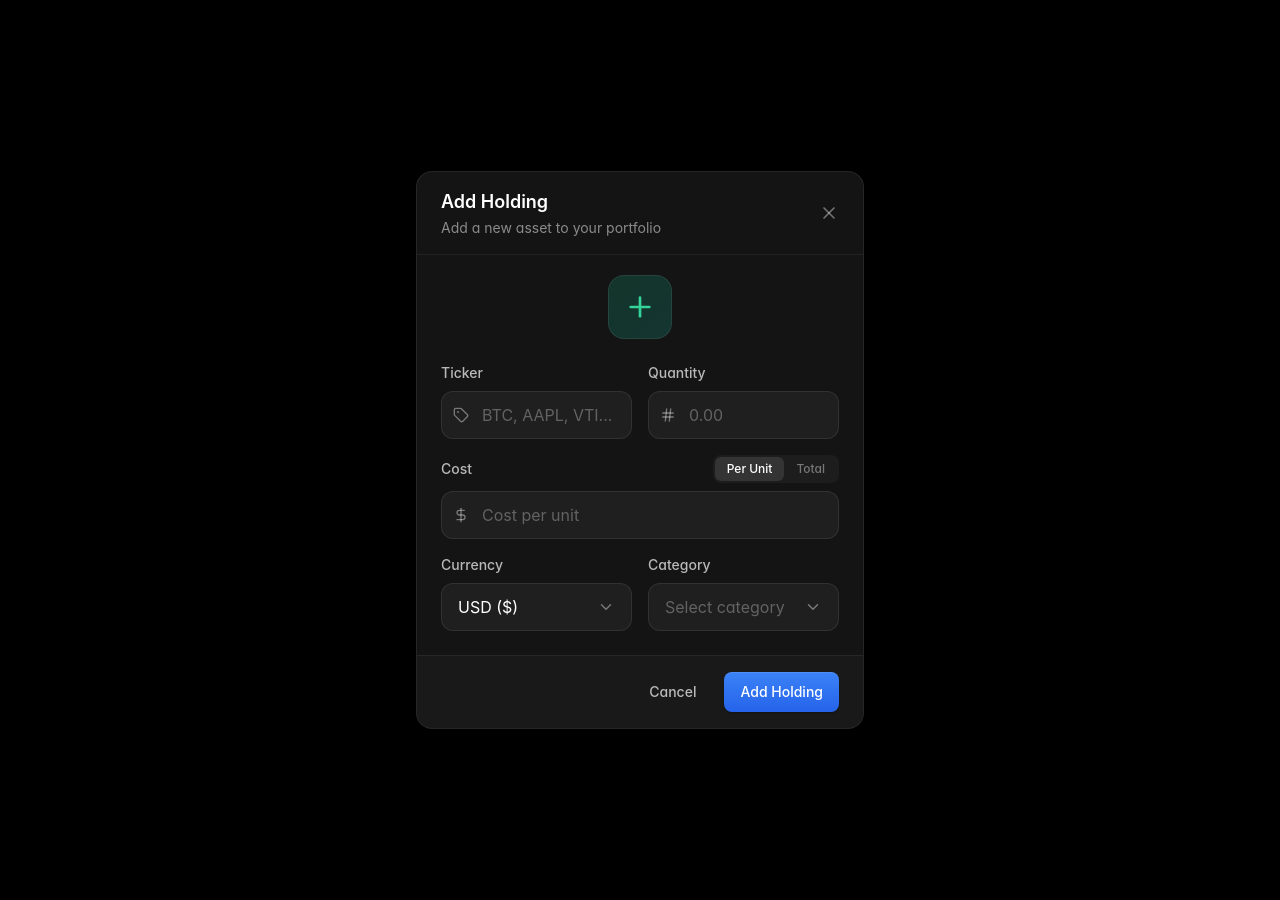
Test: Phase 4: Holdings Management UI › Cost Calculation › should calculate avg cost from total ÷ quantity
// Switch to Total cost mode
Click the button "Total" at (811, 469), box [784, 457, 837, 481]
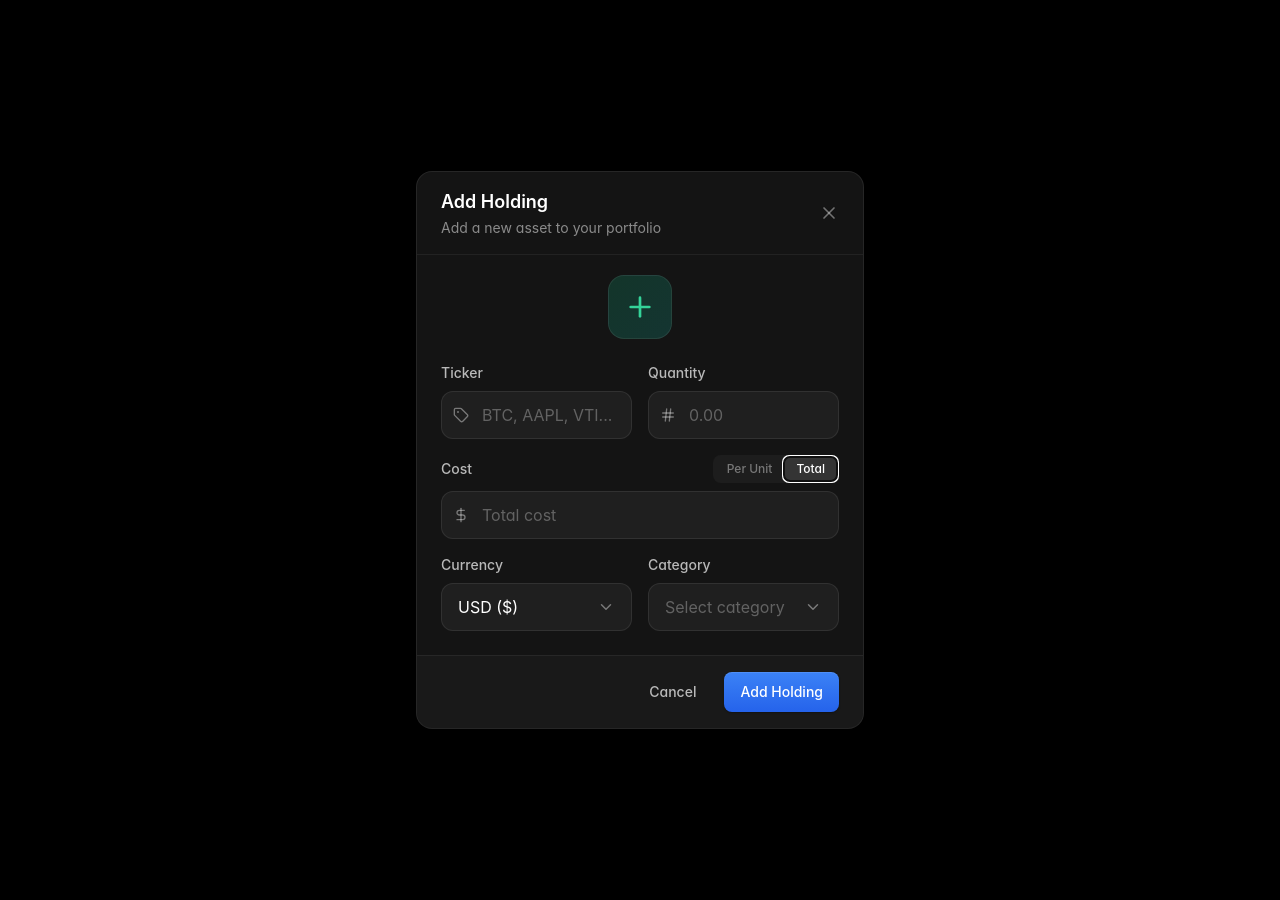
Type "5" into the number field labelled "Quantity" at (744, 415), box [648, 391, 839, 439]
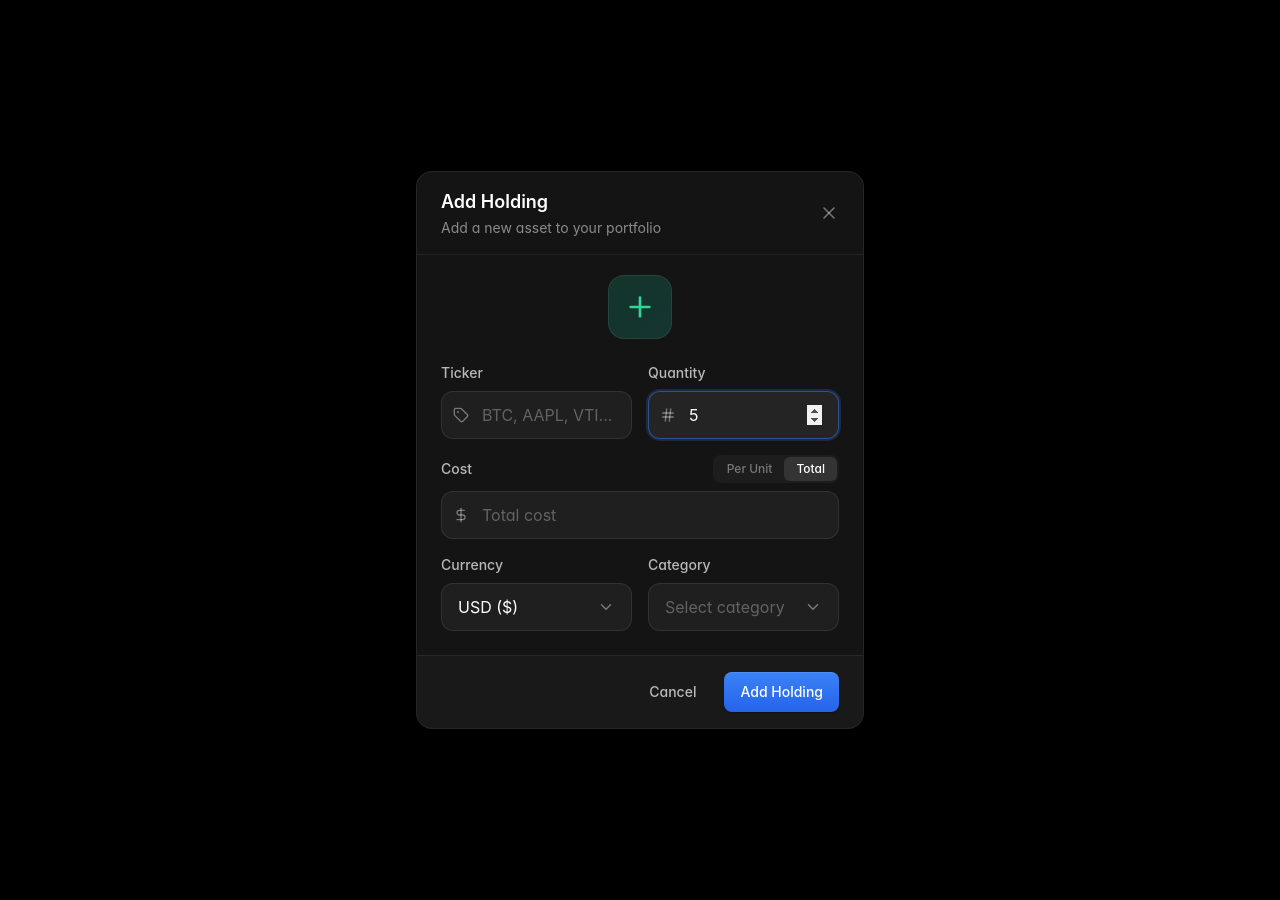
Type "1000" into the number field with placeholder "Total cost" at (640, 515), box [441, 491, 839, 539]
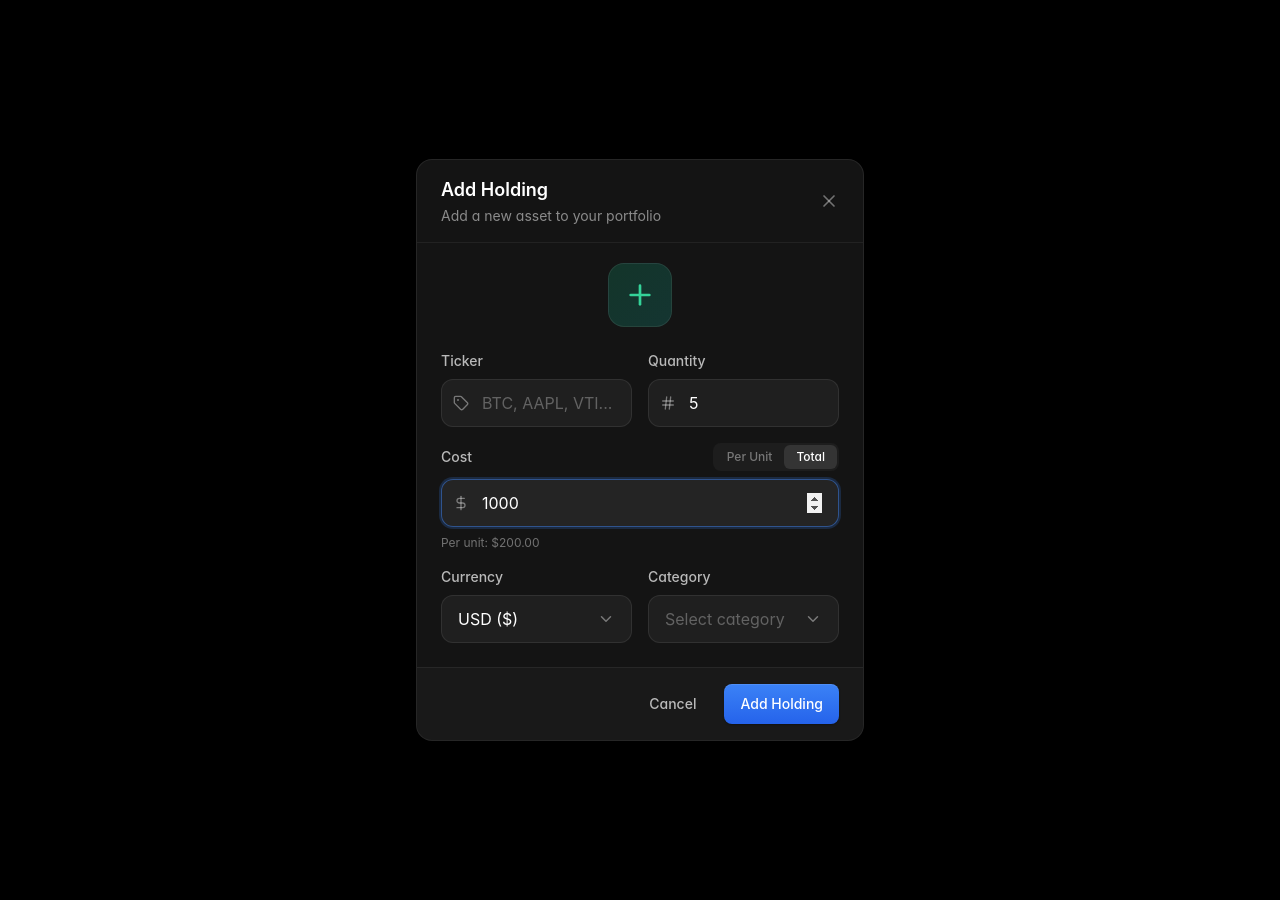
Result: the text "Per unit: $200.00" is shown at [441, 535, 540, 550]
